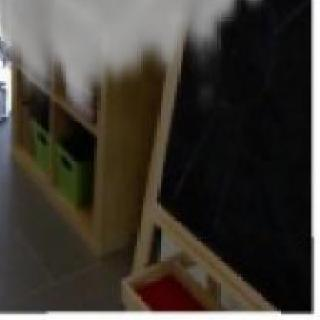smoke: (0, 0, 284, 71)
